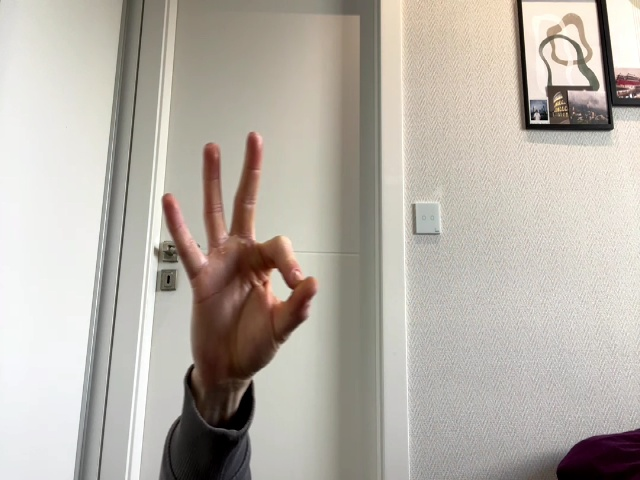O: (162, 132, 317, 384)
